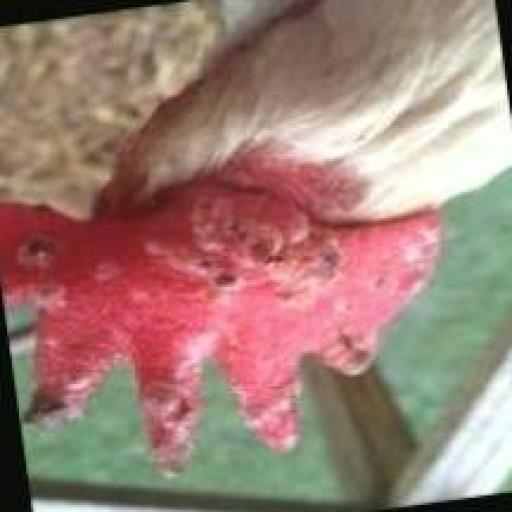disease: (154, 228, 347, 311), (9, 227, 123, 316), (145, 360, 207, 484), (30, 334, 102, 422), (234, 356, 301, 444), (379, 240, 438, 294), (322, 322, 378, 377)
